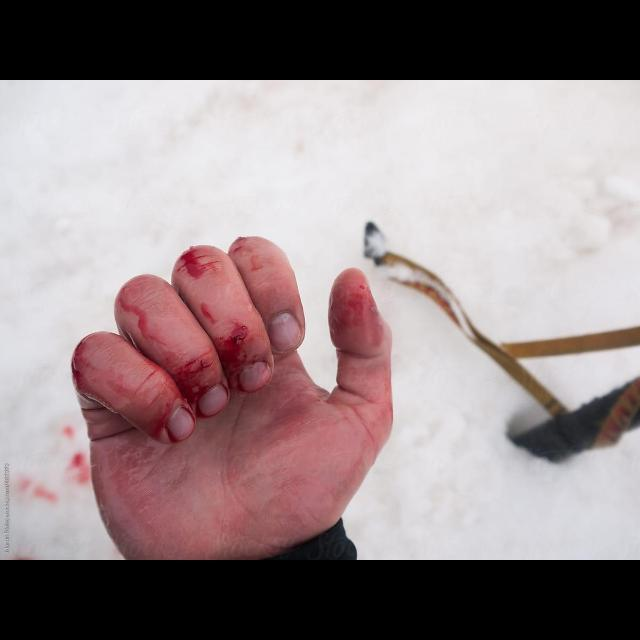blood: (115, 274, 229, 416), (71, 332, 195, 443), (202, 319, 255, 392), (171, 245, 243, 298)
